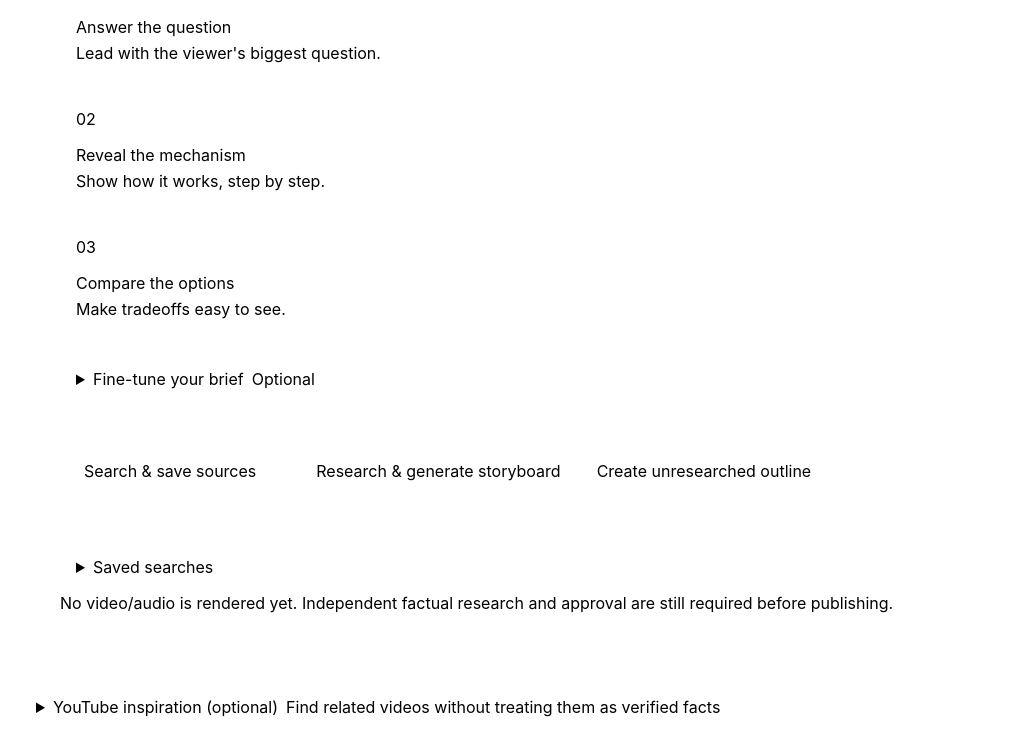
Scenario: Research workspace navigation › prefills a selected discovery angle and visibly labels its sources as unverified leads
(page scrolled)
Click the heading "Fine-tune your brief": [204, 379] box [93,369,315,389]
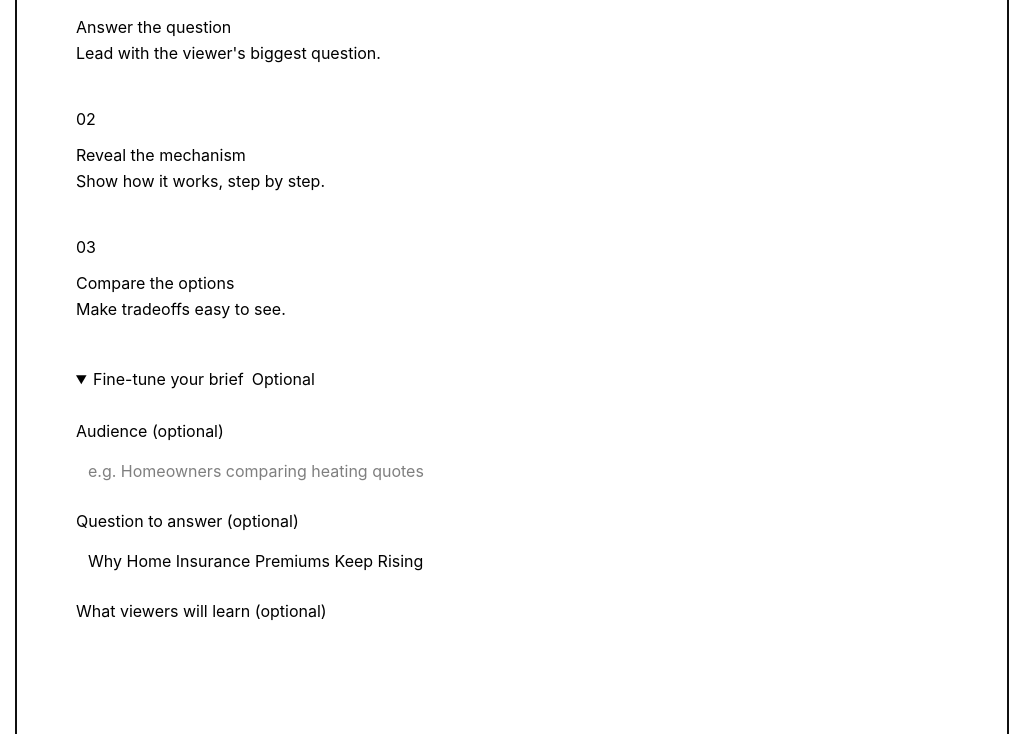
Expected: the field labelled "Question to answer (optional)" holds "Why Home Insurance Premiums Keep Rising", [76,539,948,583]
